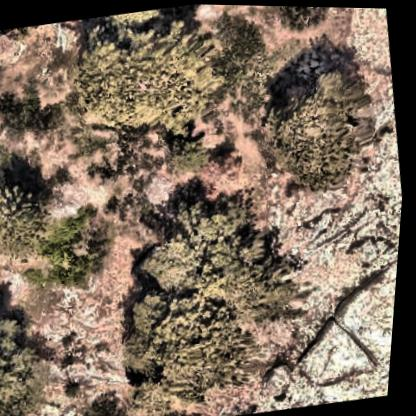tree-top: (89, 181, 316, 400), (243, 42, 404, 202), (60, 4, 233, 149), (0, 291, 79, 416), (0, 164, 61, 255), (162, 128, 220, 176)
